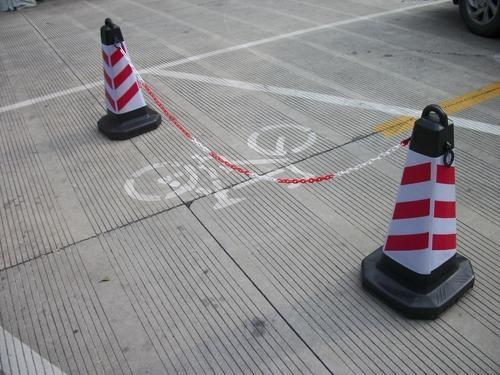cone_barrel: (360, 104, 469, 313), (90, 18, 159, 141)
